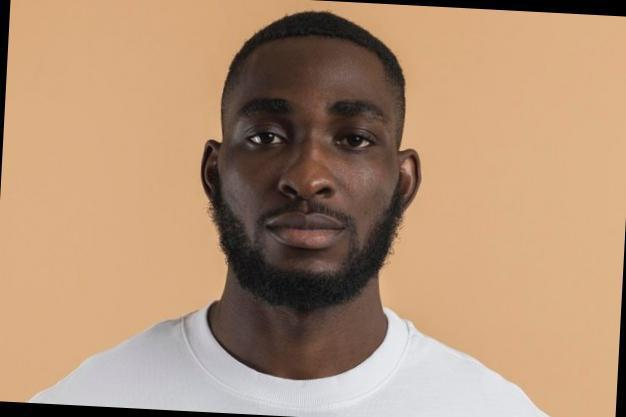Sober: (231, 48, 392, 273)
